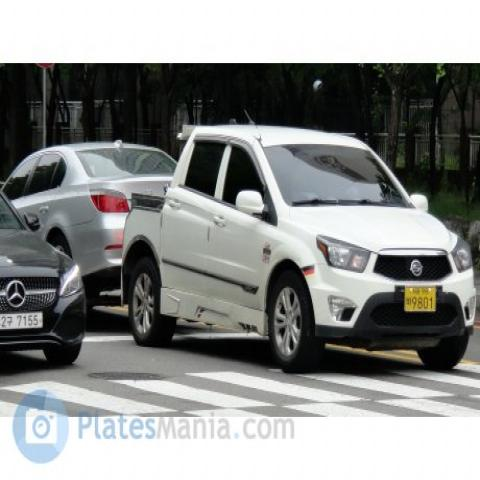LP: (400, 276, 440, 318)
